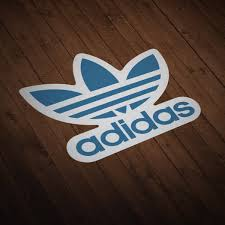adidas: (16, 46, 202, 165)
